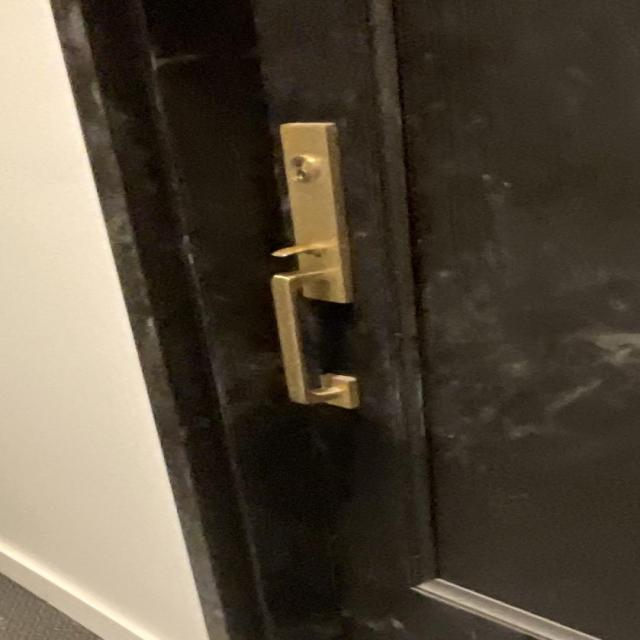door_handle: (235, 262, 394, 421)
